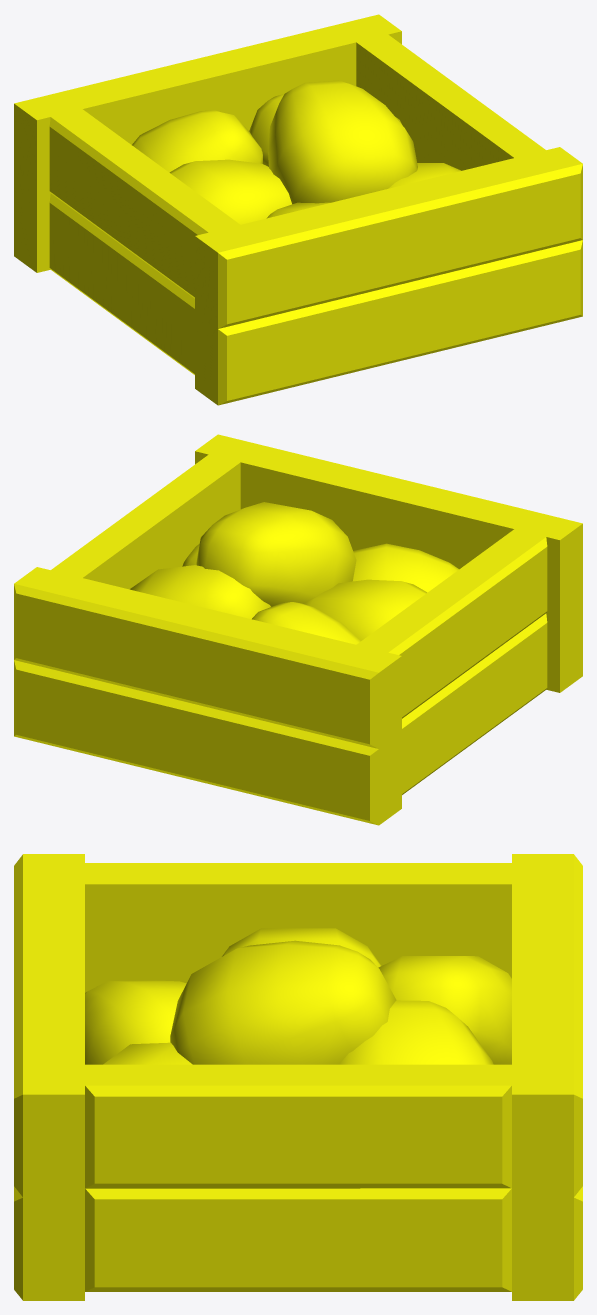
File: kaykit-crate-potatoes.glb
3 renders of one model, top to bottom at view 1: azimuth 30°, elevation 25°; view 2: azimuth 150°, elevation 25°; view 3: azimuth 270°, elevation 25°, orthographic. The views are drawn at different scales.
Parts seen in each view (by area): view 1: crate_potatoes; view 2: crate_potatoes; view 3: crate_potatoes.
Boxes of the visible parts, x1,y1,x2,y2 form: crate_potatoes: (14,14,582,405); crate_potatoes: (14,434,582,825); crate_potatoes: (14,854,582,1300).
Size of the model in its own units: 2 by 0.9659 by 2.
